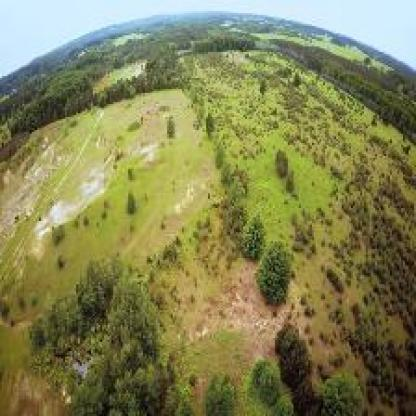other: (199, 272, 334, 353), (30, 156, 112, 220)
